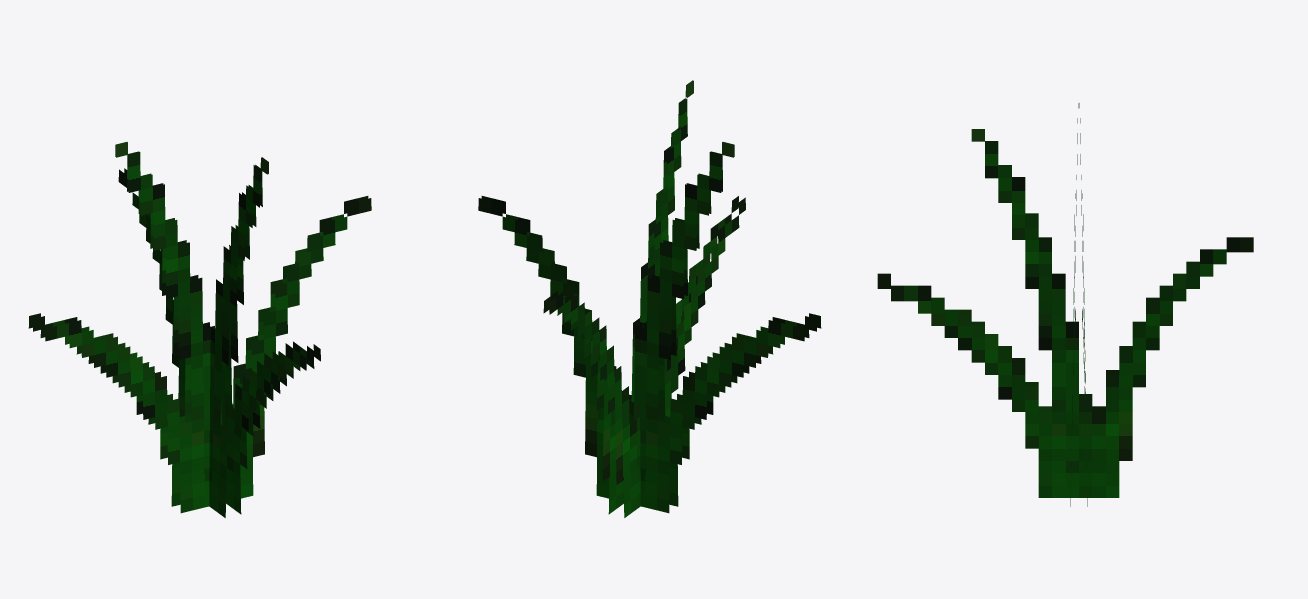
File: grass05.glb
The picture shows the model from 3 angles, left to right: view 1: azimuth 30°, elevation 25°; view 2: azimuth 150°, elevation 25°; view 3: azimuth 270°, elevation 25°; orthographic projection. The views are drawn at different scales.
Visible parts, largest first — view 1: grass5; view 2: grass5; view 3: grass5.
Part boxes in pixels (box(x1,y1,x2,y2)): grass5: box(28, 142, 371, 517); grass5: box(478, 80, 821, 517); grass5: box(877, 103, 1253, 506).
Bounding box in the file's own units: 0.5 × 0.5 × 0.5.
Materials: 1 (1 with a texture image).
